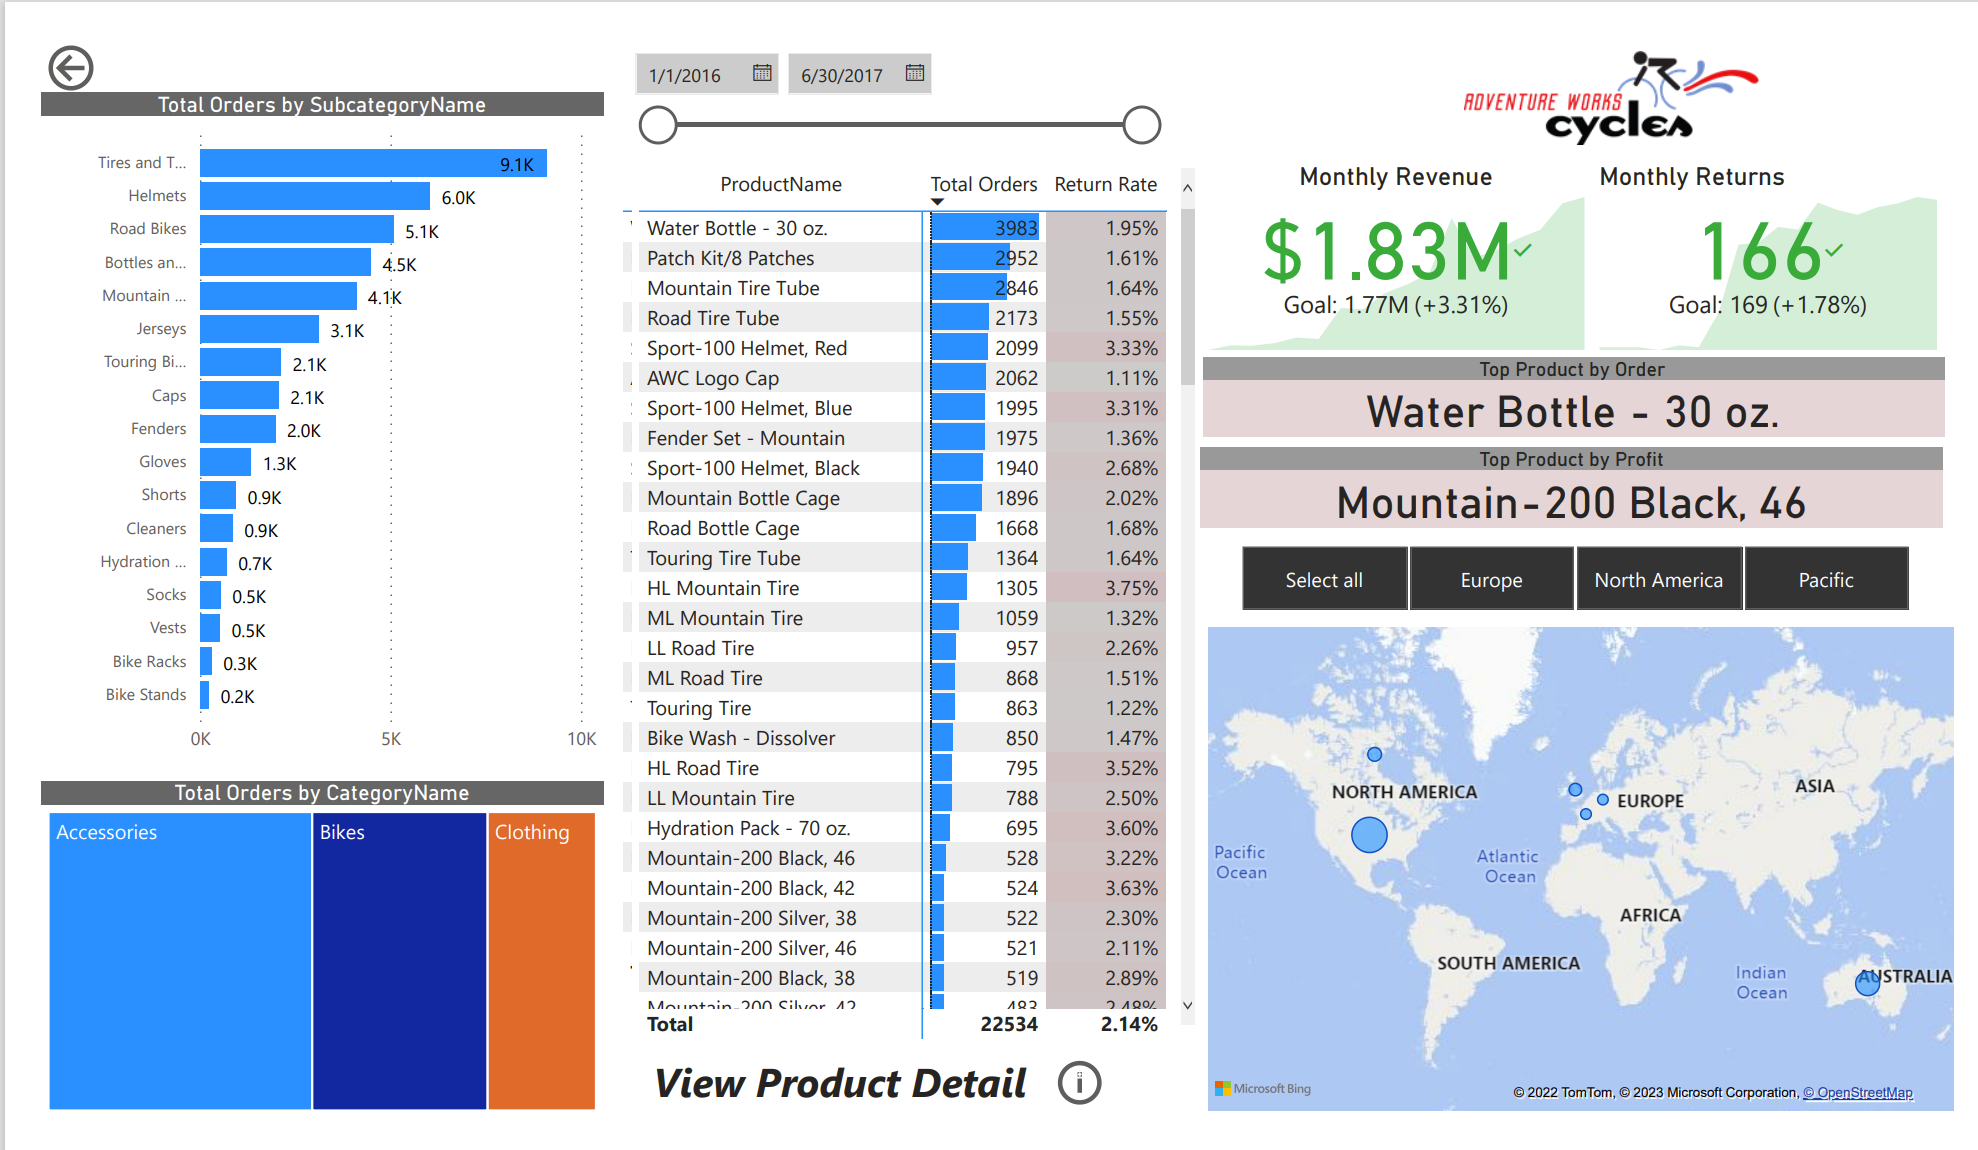

The dashboard page shown, as its layout file describes it:
{"tool":"powerbi","page":{"name":"Exec Summary","canvas":[1280,720],"ordinal":0},"visuals":[{"type":"actionButton","box":[0,0,100,40],"z":0},{"type":"image","box":[825.7,3.8,443.7,72.2],"z":1000},{"type":"barChart","title":"Total Orders by SubcategoryName","fields":{"Y":["AW_Sales.Total Orders"],"Category":["AW_Product_Subcategories_Lookup.SubcategoryName"]},"box":[0,35.6,375.3,449.4],"z":2000},{"type":"treemap","title":"Total Orders by CategoryName","fields":{"Group":["AW_Product_Categories_Lookup.CategoryName","AW_Product_Subcategories_Lookup.SubcategoryName"],"Values":["AW_Sales.Total Orders"]},"box":[0,494.7,375.3,225.2],"z":3000},{"type":"pivotTable","fields":{"Values":["AW_Sales.Total Orders","AW_Returns.Return Rate"],"Rows":["AW_Product_Categories_Lookup.CategoryName","AW_Product_Subcategories_Lookup.SubcategoryName","AW_Products_Lookup.ProductName"]},"box":[383,81.8,380.2,556.3],"z":4000},{"type":"slicer","fields":{"Values":["AW_Calendar_Lookup.Date"]},"box":[383.2,0,371.6,81.7],"z":5000},{"type":"kpi","title":"Monthly Revenue","fields":{"Indicator":["AW_Sales.Total Revenue"],"TrendLine":["AW_Calendar_Lookup.Start of Month"],"Goal":["AW_Sales.Prev Month Revenue"]},"box":[773.3,81.7,260.7,131.3],"z":6000},{"type":"kpi","title":"Monthly Returns","fields":{"TrendLine":["AW_Calendar_Lookup.Start of Month"],"Goal":["AW_Returns.Prev Month Return"],"Indicator":["AW_Returns.Total Returns"]},"box":[1033.9,81.7,235.4,131.3],"z":7000},{"type":"card","title":"Top Product by Order","fields":{"Values":["Min(AW_Products_Lookup.ProductName)"]},"box":[772.8,212.7,496.6,52.9],"z":8000},{"type":"pivotTable","fields":{"Values":["AW_Sales.Total Orders","AW_Returns.Return Rate"],"Rows":["AW_Product_Categories_Lookup.CategoryName","AW_Product_Subcategories_Lookup.SubcategoryName","AW_Products_Lookup.ProductName"]},"box":[393.6,81.8,380.2,590],"z":9000},{"type":"card","title":"Top Product by Profit","fields":{"Values":["Min(AW_Products_Lookup.ProductName)"]},"box":[772.8,273.3,495.6,53.9],"z":10000},{"type":"map","fields":{"Category":["AW_Territories_Lookup.Country"],"Size":["AW_Sales.Total Orders"]},"box":[772.8,387.8,507.2,332],"z":11000},{"type":"slicer","fields":{"Values":["AW_Territories_Lookup.Continent"]},"box":[774.7,332,494.7,55.8],"z":12000},{"type":"actionButton","box":[672.9,676.2,39,40.1],"z":13000},{"type":"textbox","box":[403.3,671.7,269.6,47.9],"z":14000}]}

Visuals, with their boxes on the page's 1280x720 design canvas (x1, y1, x2, y2). These are canvas units, not pixel positions in the 1978x1150 screenshot, which may show the page scaled, cropped or inside an application window:
actionButton: l=0, t=0, r=100, b=40
image: l=826, t=4, r=1269, b=76
"Total Orders by SubcategoryName" barChart: l=0, t=36, r=375, b=485
"Total Orders by CategoryName" treemap: l=0, t=495, r=375, b=720
pivotTable - AW_Sales.Total Orders x AW_Returns.Return Rate: l=383, t=82, r=763, b=638
slicer - AW_Calendar_Lookup.Date: l=383, t=0, r=755, b=82
"Monthly Revenue" kpi: l=773, t=82, r=1034, b=213
"Monthly Returns" kpi: l=1034, t=82, r=1269, b=213
"Top Product by Order" card: l=773, t=213, r=1269, b=266
pivotTable - AW_Sales.Total Orders x AW_Returns.Return Rate: l=394, t=82, r=774, b=672
"Top Product by Profit" card: l=773, t=273, r=1268, b=327
map - AW_Territories_Lookup.Country x AW_Sales.Total Orders: l=773, t=388, r=1280, b=720
slicer - AW_Territories_Lookup.Continent: l=775, t=332, r=1269, b=388
actionButton: l=673, t=676, r=712, b=716
textbox: l=403, t=672, r=673, b=720
